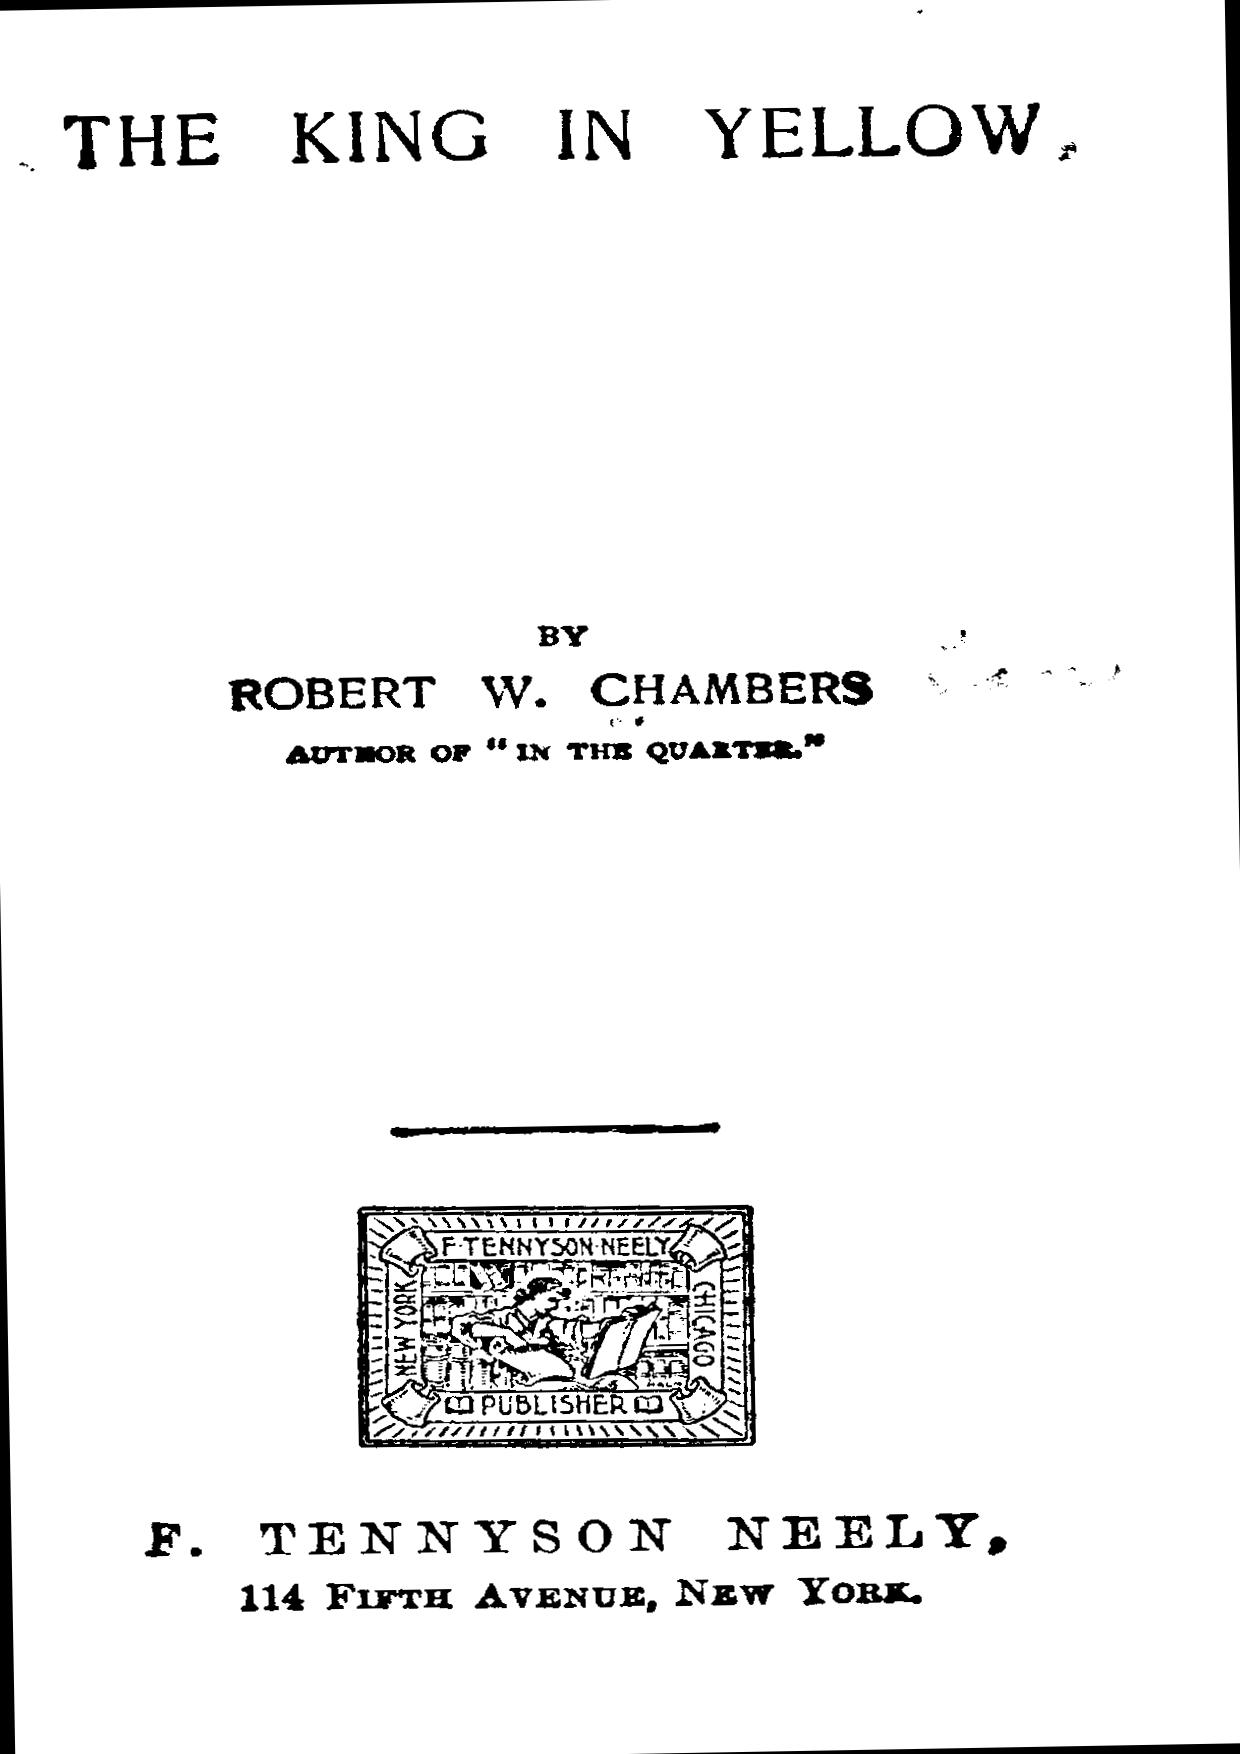author: (225, 621, 878, 717)
title: (52, 101, 1087, 170)
